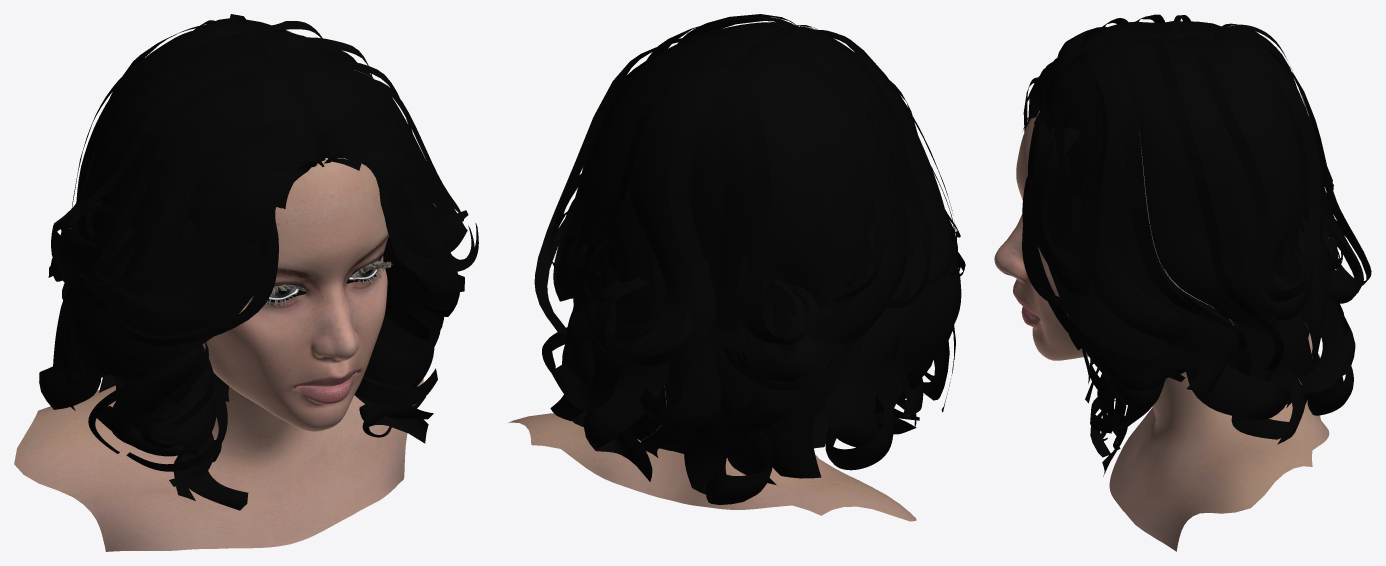
The model's file is angelica_head.glb.
3 renders of one model, left to right at view 1: azimuth 30°, elevation 25°; view 2: azimuth 150°, elevation 25°; view 3: azimuth 270°, elevation 25°, orthographic. The views are drawn at different scales.
Visible parts, largest first — view 1: Hair_6, Head_7, Eyelashes_4; view 2: Hair_6, Head_7; view 3: Hair_6, Head_7.
Boxes of the visible parts, x1,y1,x2,y2 form: Hair_6: [39, 14, 478, 510]; Head_7: [14, 158, 423, 551]; Eyelashes_4: [253, 260, 392, 306]; Hair_6: [534, 14, 965, 504]; Head_7: [508, 413, 916, 521]; Hair_6: [1022, 14, 1371, 476]; Head_7: [994, 110, 1329, 551].
Bounding box in the file's own units: 61.61 × 69.55 × 52.65.
7 materials, 4 textured.
